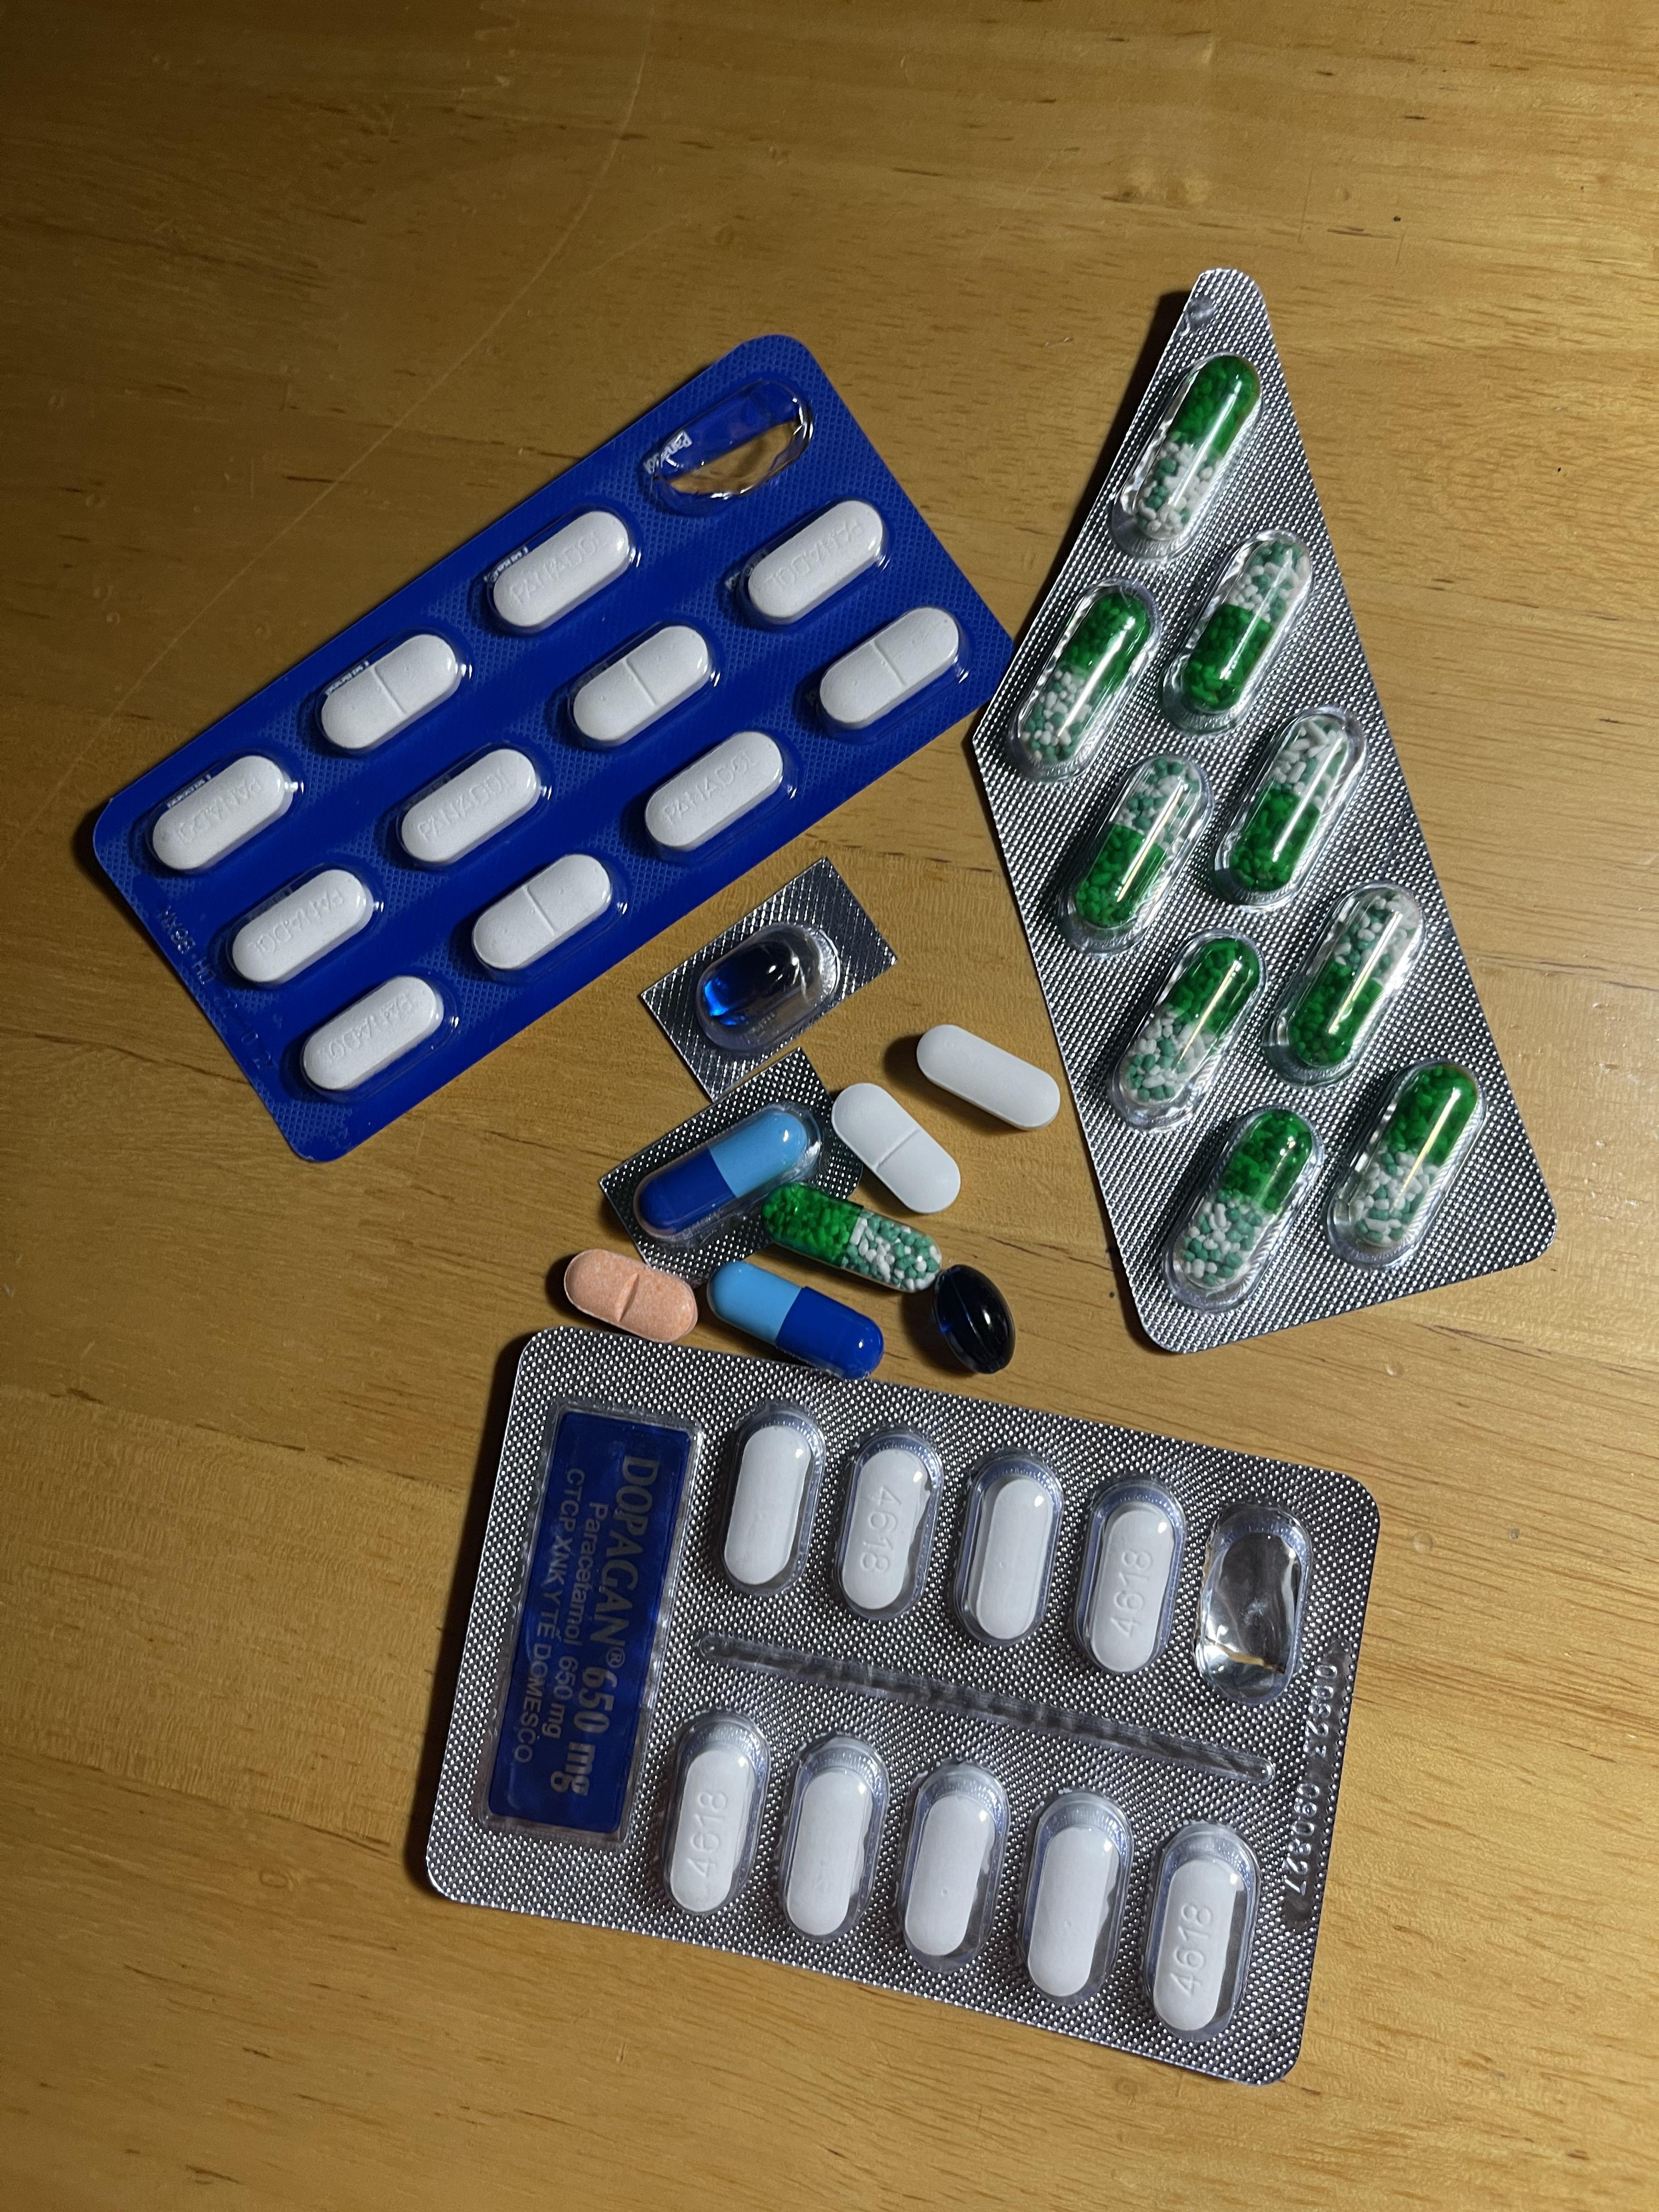Lincomyxin_500mg: (697, 935, 810, 1029), (931, 1263, 1019, 1372)
Loratadine_10mg: (561, 1247, 701, 1343)
Paracetamol_350mg: (732, 498, 889, 632), (645, 728, 795, 857), (568, 622, 720, 749), (225, 864, 376, 986), (817, 606, 962, 733), (828, 1080, 964, 1214), (488, 510, 634, 634), (397, 747, 542, 869), (153, 754, 296, 876), (319, 634, 462, 754), (300, 975, 446, 1092), (472, 855, 612, 974)
Paracetamol_500mg: (1028, 1820, 1121, 1996), (913, 1022, 1061, 1130), (906, 1789, 999, 1961), (786, 1768, 877, 1939), (1152, 1860, 1241, 2031), (669, 1750, 756, 1918), (725, 1430, 816, 1588), (971, 1475, 1056, 1641), (843, 1454, 932, 1613), (1091, 1510, 1173, 1665)
Paracetamol_650mg: (1340, 1066, 1474, 1251), (1131, 355, 1258, 542), (1281, 894, 1413, 1069), (1229, 716, 1354, 899), (1180, 1116, 1312, 1289), (1126, 942, 1260, 1109), (1178, 540, 1302, 712), (1025, 590, 1147, 763), (762, 1181, 946, 1292), (1073, 777, 1199, 930)
pill: (636, 1099, 828, 1244), (708, 1259, 882, 1376)
